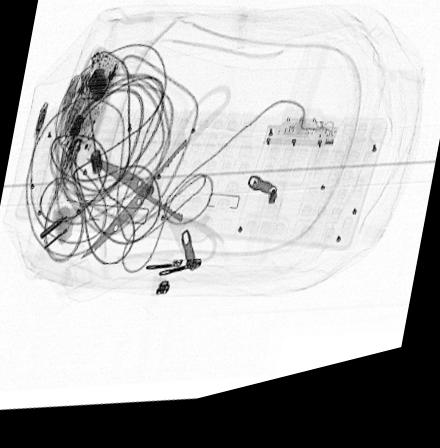Scissors: (79, 95, 231, 278)
